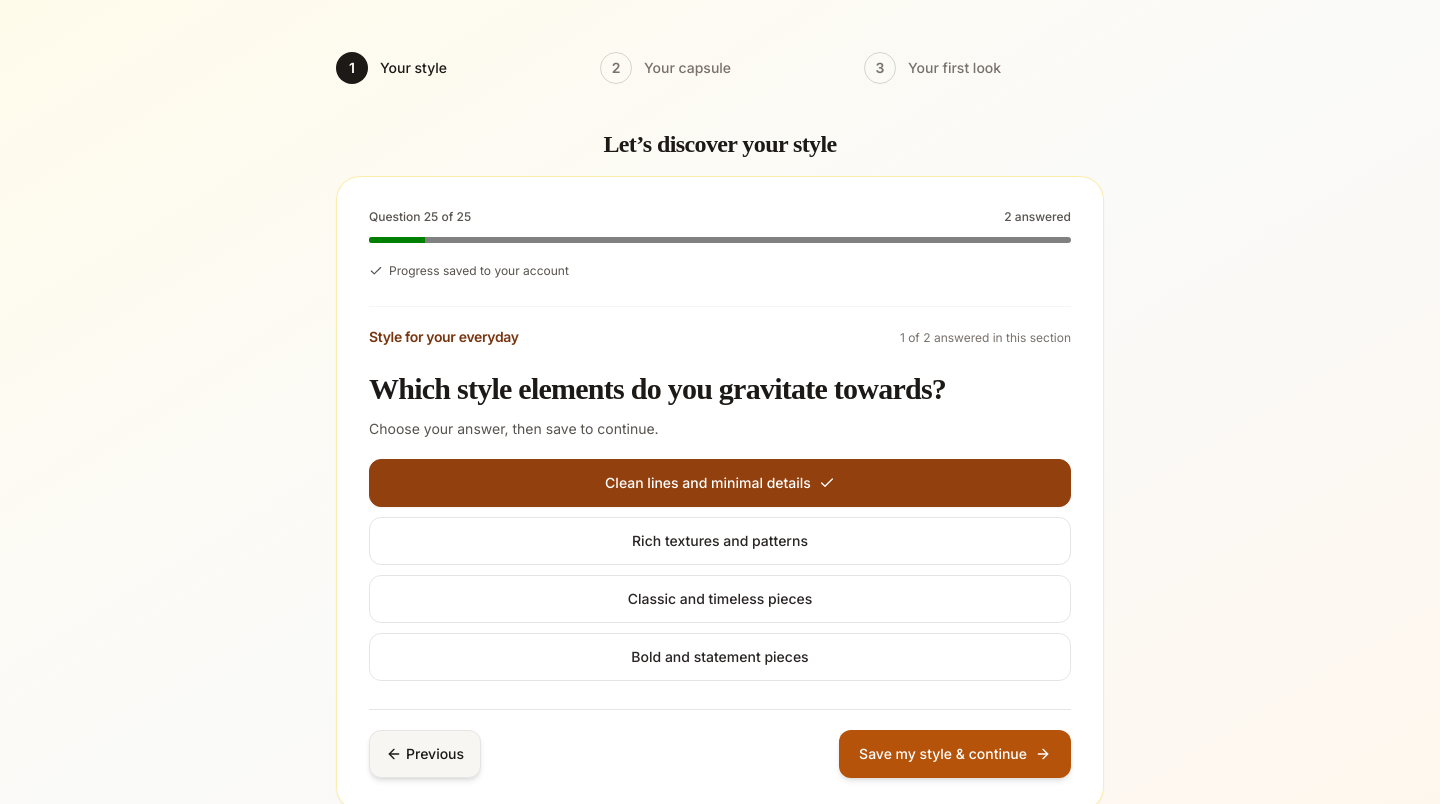
Scenario: does not complete a partial full quiz merely because its last question has an answer
Click the button "Save my style & continue". click: (955, 754)
box: x1=839 y1=730 x2=1071 y2=778
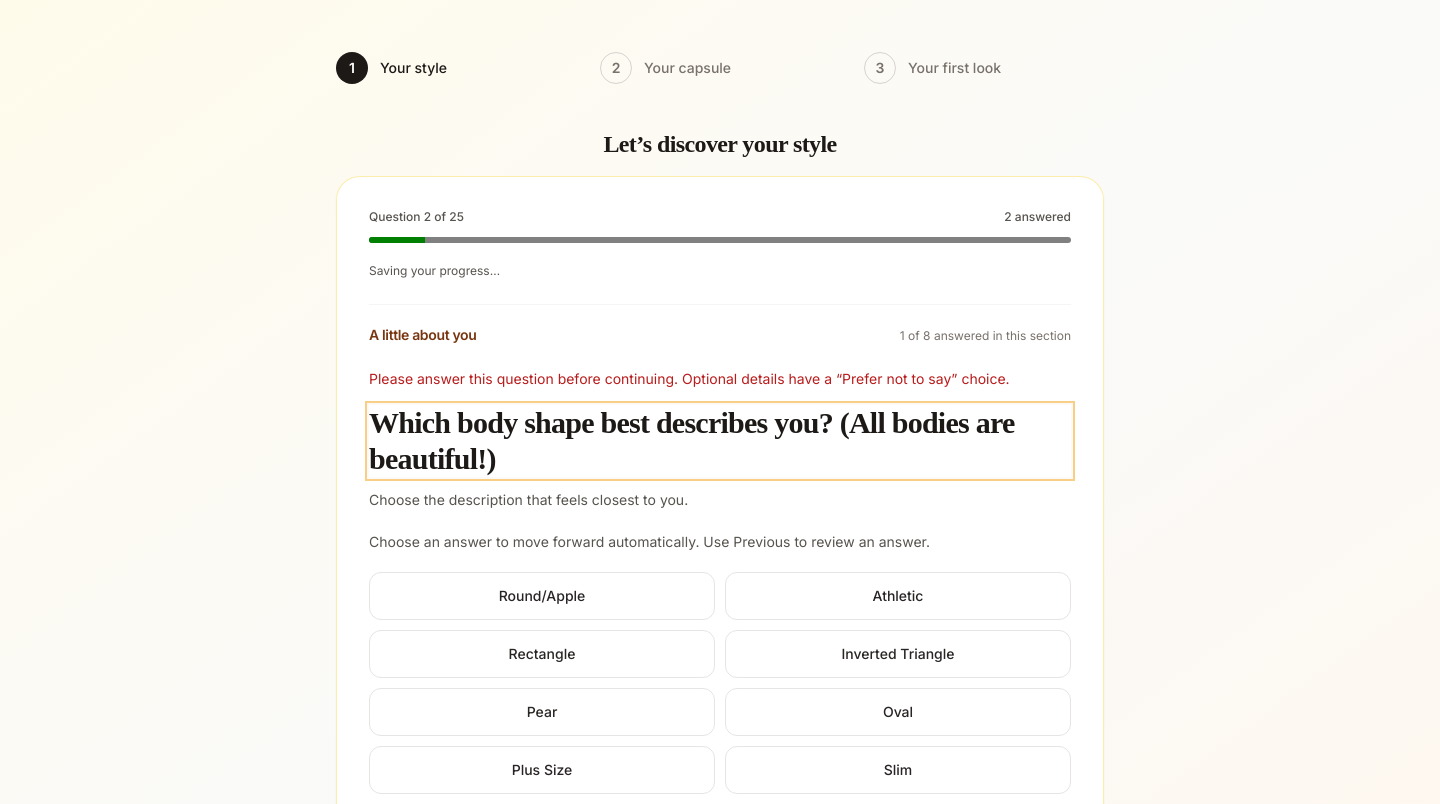
Now the text "Question 2 of 25" is shown, box x1=369 y1=209 x2=464 y2=225
Now the 2nd message shows "Please answer this question", box x1=369 y1=370 x2=1010 y2=387
